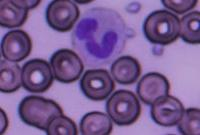N: (70, 6, 128, 69)
